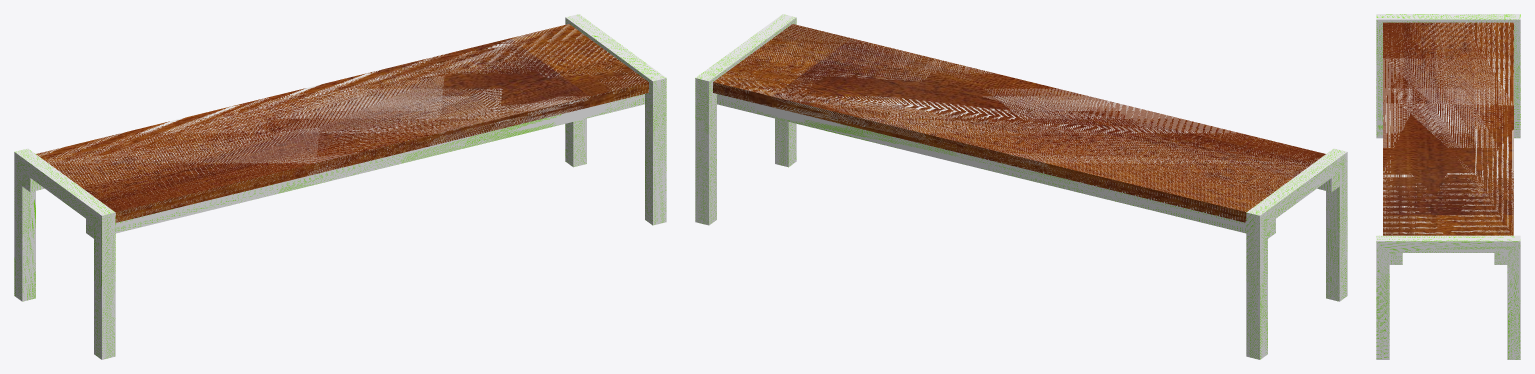
3 views of the same model, side by side, from view 1: azimuth 30°, elevation 25°; view 2: azimuth 150°, elevation 25°; view 3: azimuth 270°, elevation 25° (orthographic). The views are drawn at different scales.
Visible parts, largest first — view 1: mesh1_mesh1-geometry; view 2: mesh1_mesh1-geometry; view 3: mesh1_mesh1-geometry.
Part boxes in pixels (x1,y1,x2,y2): mesh1_mesh1-geometry: (14, 14, 666, 359); mesh1_mesh1-geometry: (695, 14, 1347, 359); mesh1_mesh1-geometry: (1376, 14, 1520, 359).
Size of the model in its own units: 0.9401 by 0.2293 by 0.2522.
